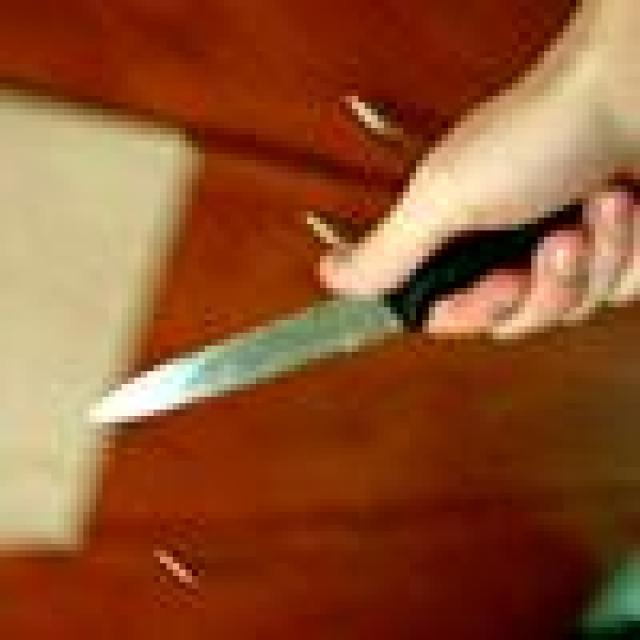faca: (83, 77, 640, 448)
